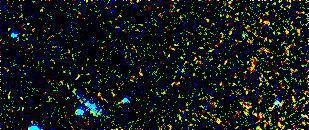star: (71, 91, 101, 121)
